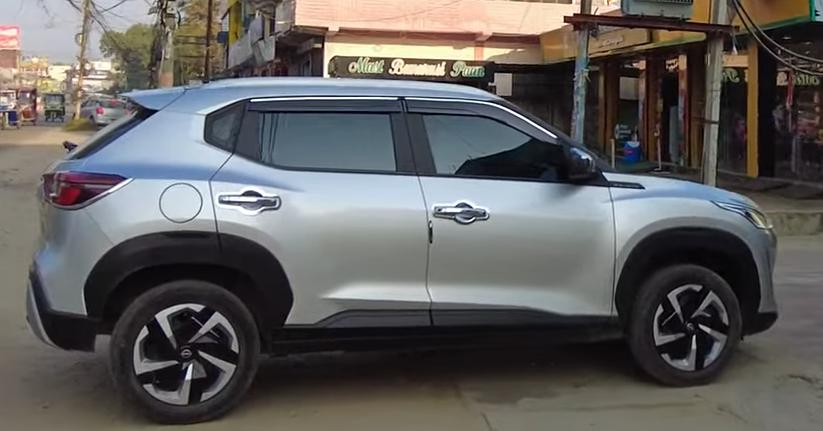car: (34, 73, 782, 411)
e-rickshaw: (0, 86, 22, 132), (16, 84, 38, 128), (41, 91, 68, 124)
